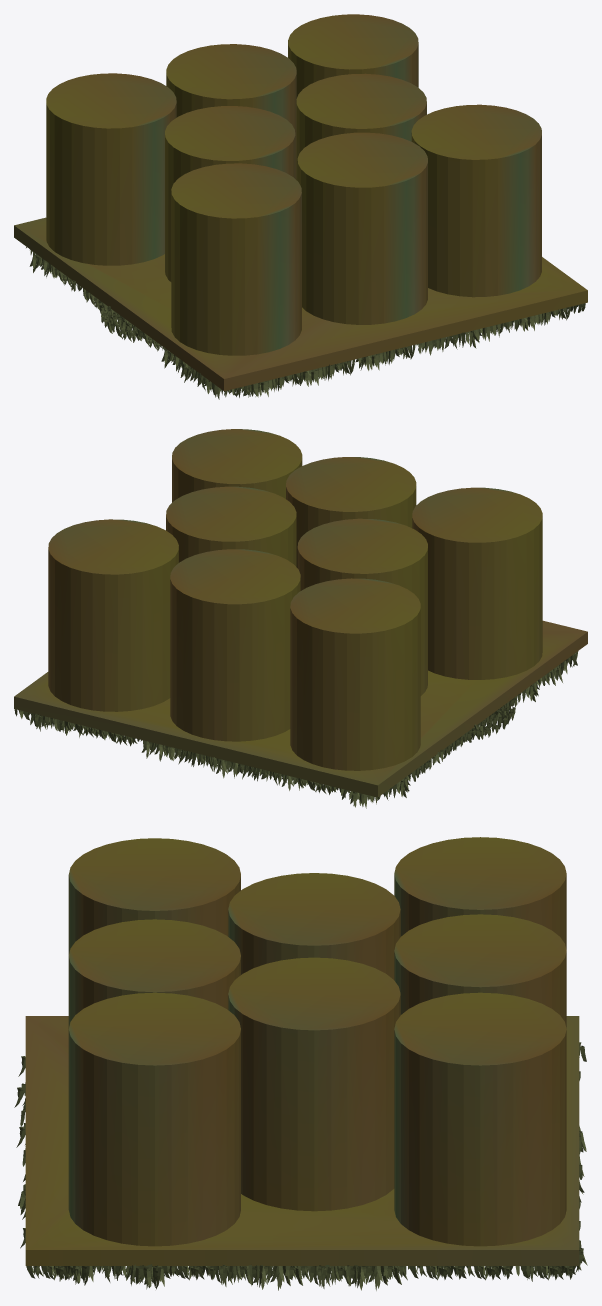
Rendered from UltraHole.obj.
3 views of the same model, one above another, from view 1: azimuth 30°, elevation 25°; view 2: azimuth 150°, elevation 25°; view 3: azimuth 270°, elevation 25° (orthographic). The views are drawn at different scales.
Visible parts, largest first — view 1: Cube; view 2: Cube; view 3: Cube.
Part boxes in pixels (x1,y1,x2,y2): Cube: (14, 14, 587, 399); Cube: (14, 429, 587, 808); Cube: (14, 837, 587, 1290).
Size of the model in its own units: 21.42 by 8.95 by 20.73.
